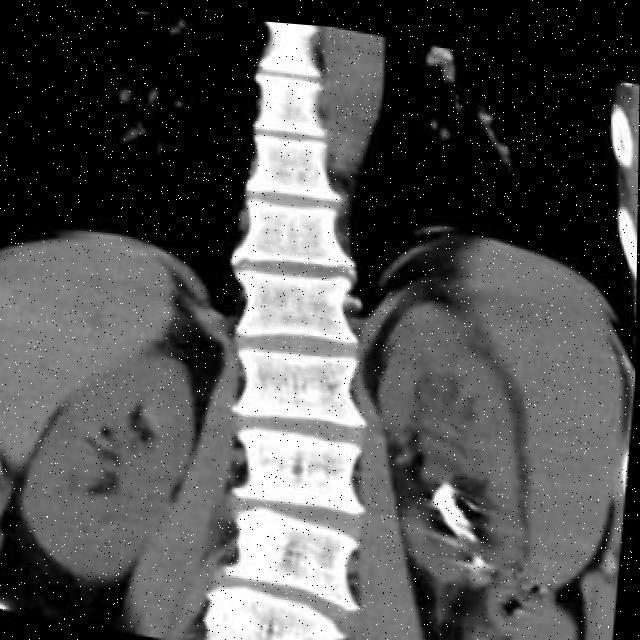Tas_Var: (430, 469, 474, 536), (475, 546, 492, 561), (467, 491, 484, 504), (469, 523, 481, 534)
